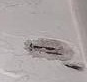Exposed reinforcement: (64, 63, 82, 72), (31, 44, 56, 50), (44, 50, 63, 56)
Spalling: (23, 37, 75, 61), (63, 61, 87, 73)
